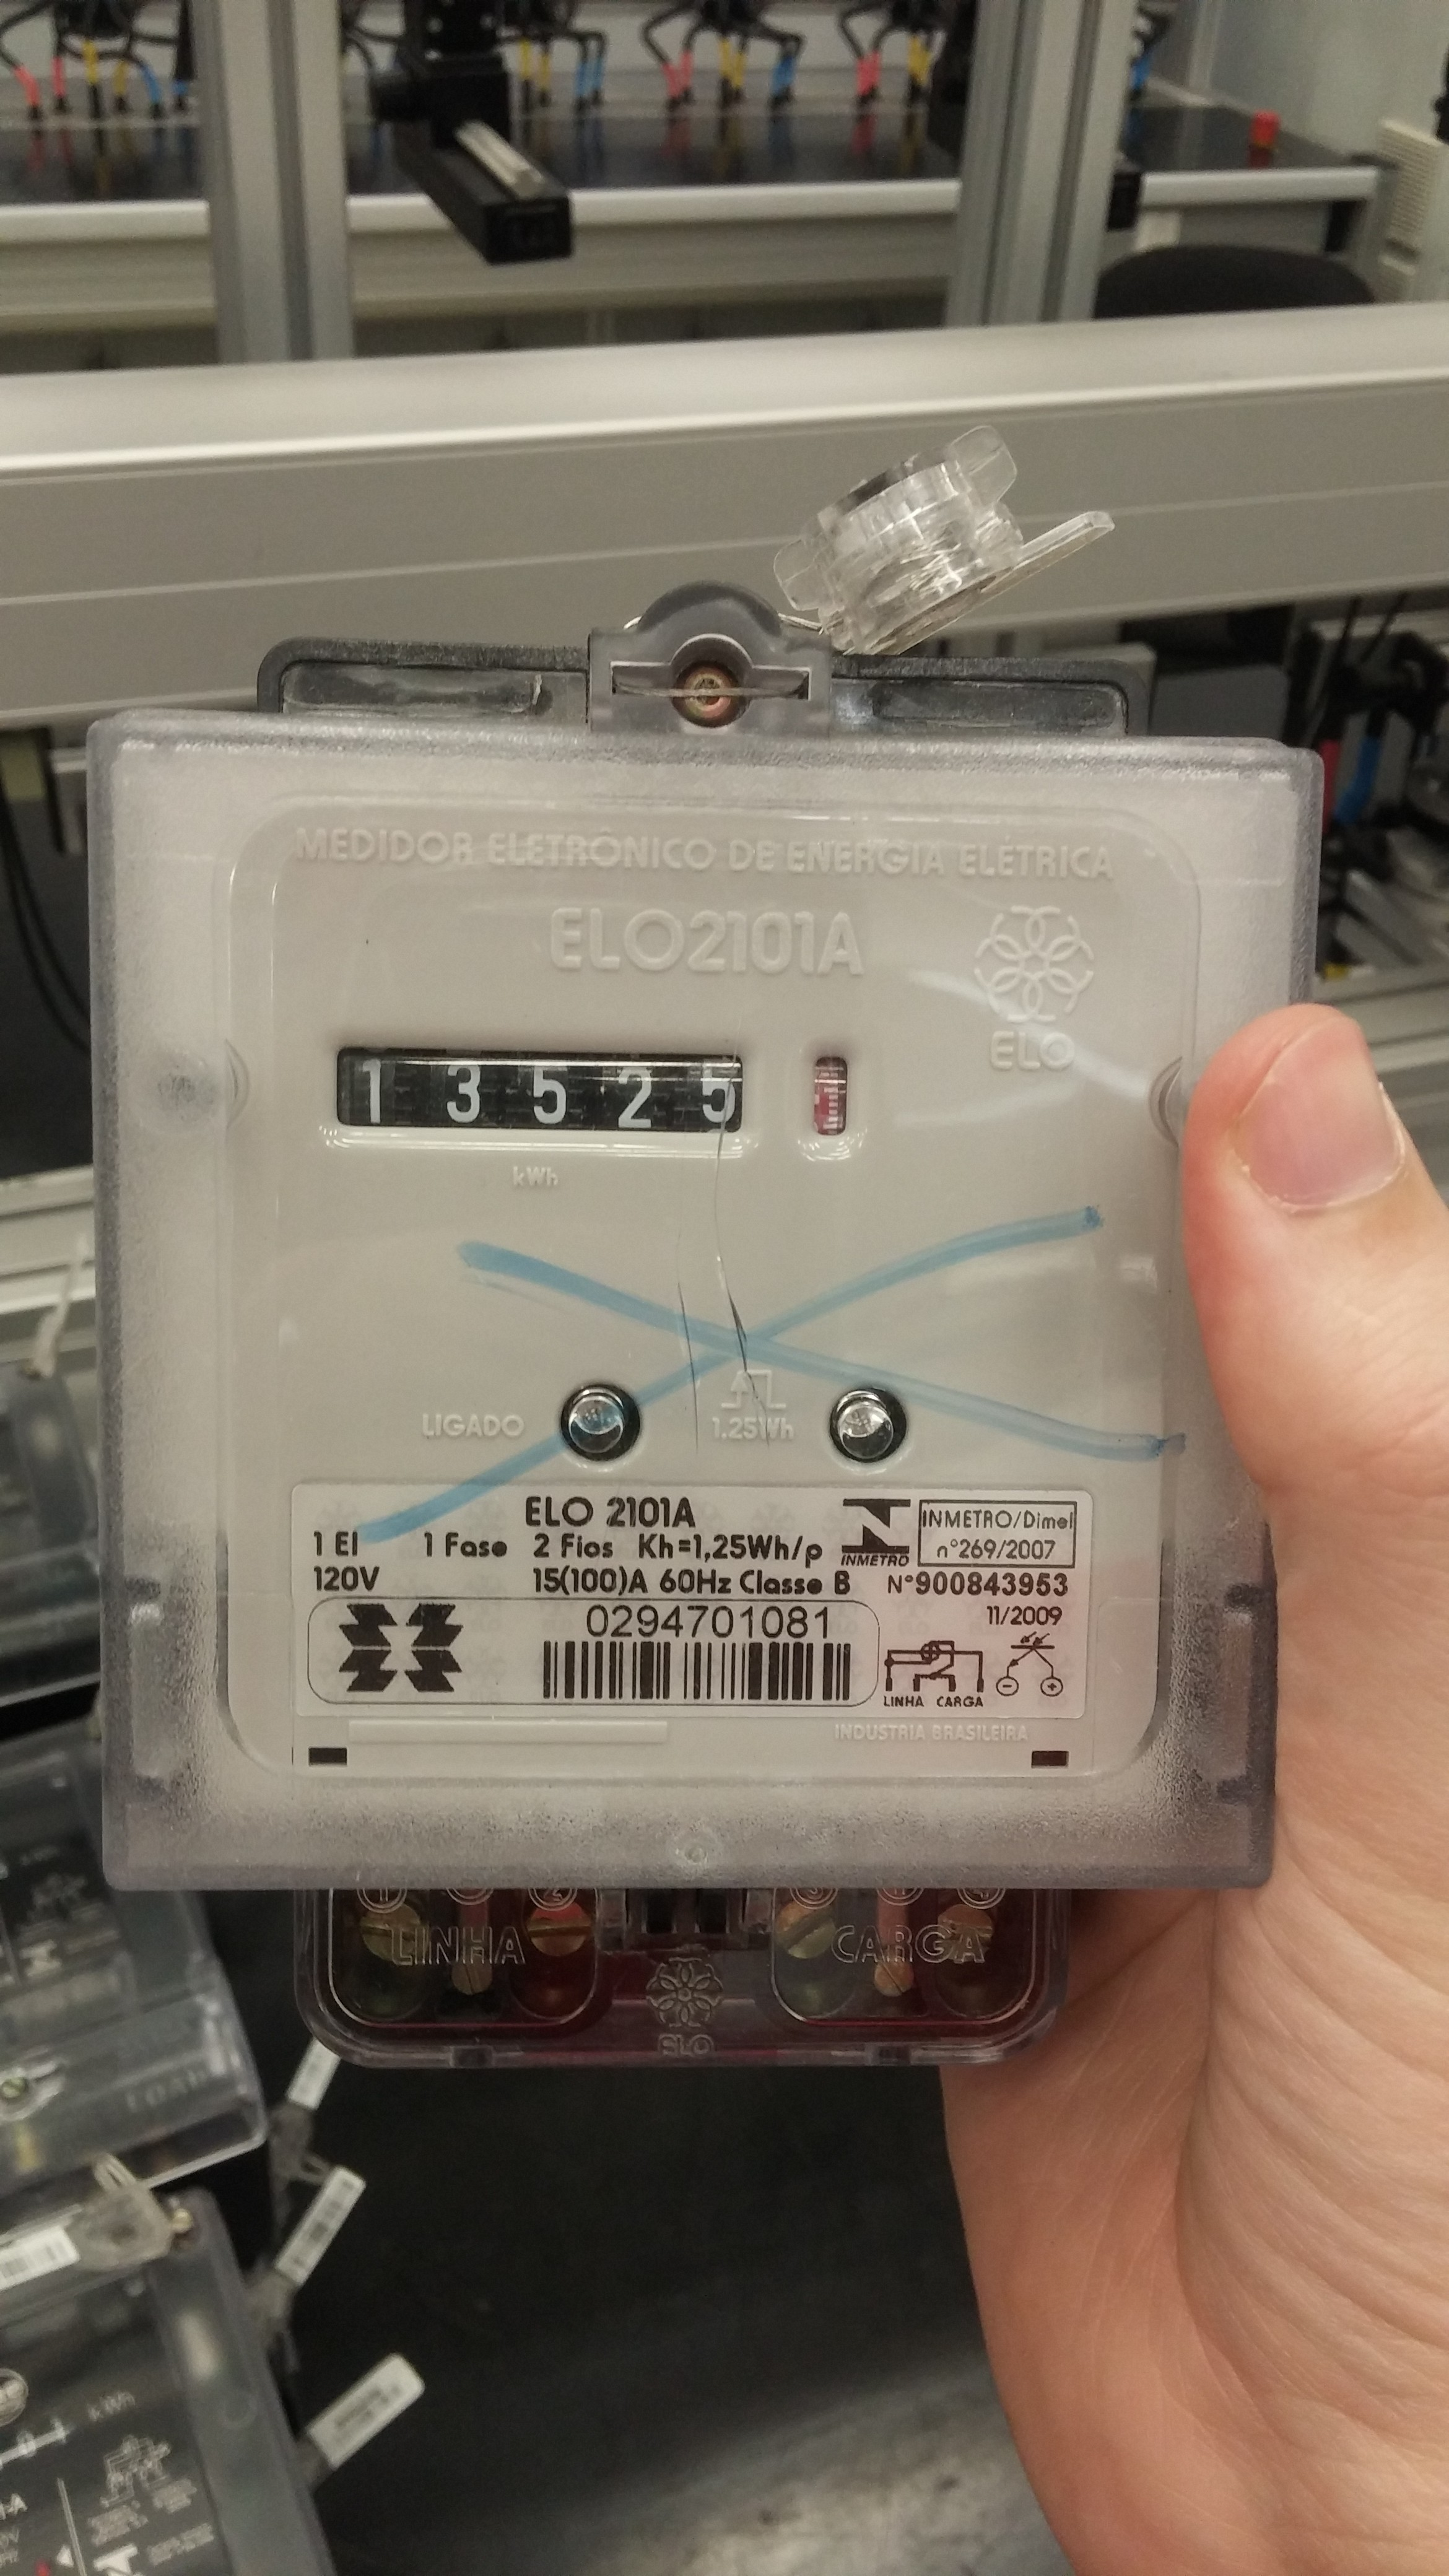counter2: (310, 1024, 773, 1166)
